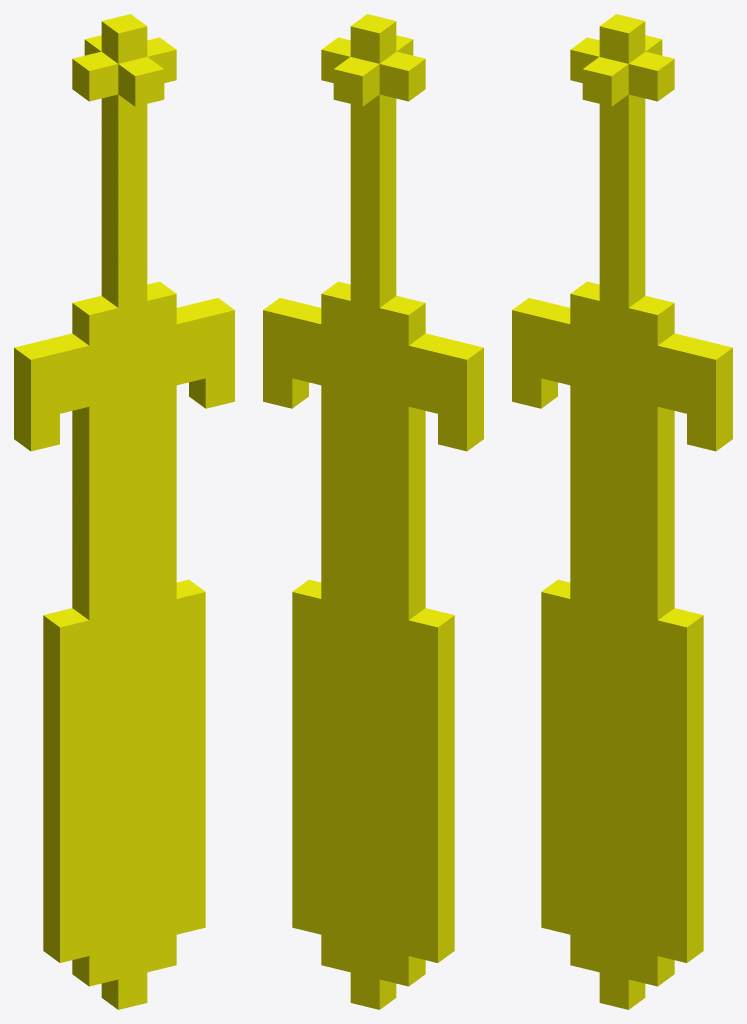
Rendered from voxel-wizards-sword.glb.
3 renders of one model, left to right at view 1: azimuth 30°, elevation 25°; view 2: azimuth 150°, elevation 25°; view 3: azimuth 330°, elevation 25°, orthographic.
Visible parts, largest first — view 1: VS_Wizards_Sword; view 2: VS_Wizards_Sword; view 3: VS_Wizards_Sword.
Part boxes in pixels (left/top/right/bottom): VS_Wizards_Sword: left=14, top=14, right=234, bottom=1009; VS_Wizards_Sword: left=263, top=14, right=483, bottom=1009; VS_Wizards_Sword: left=512, top=14, right=732, bottom=1009.
Size of the model in its own units: 0.7 by 3.2 by 0.3.
